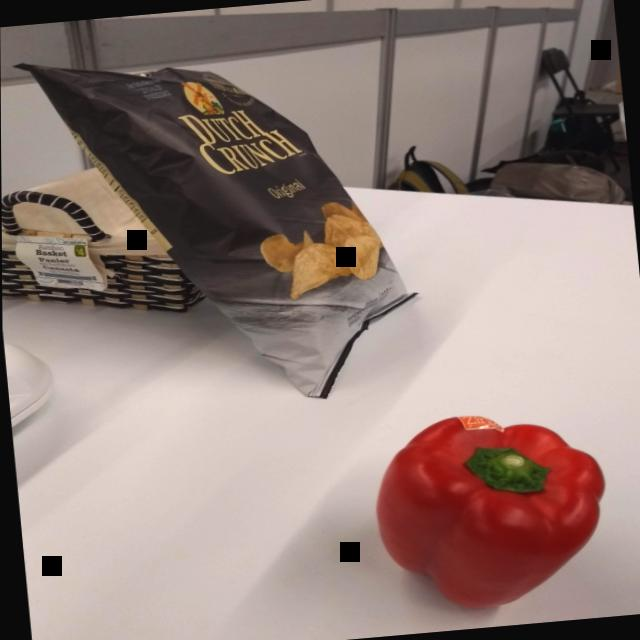paprika: (358, 400, 621, 622)
potato_chips: (5, 24, 436, 427)
